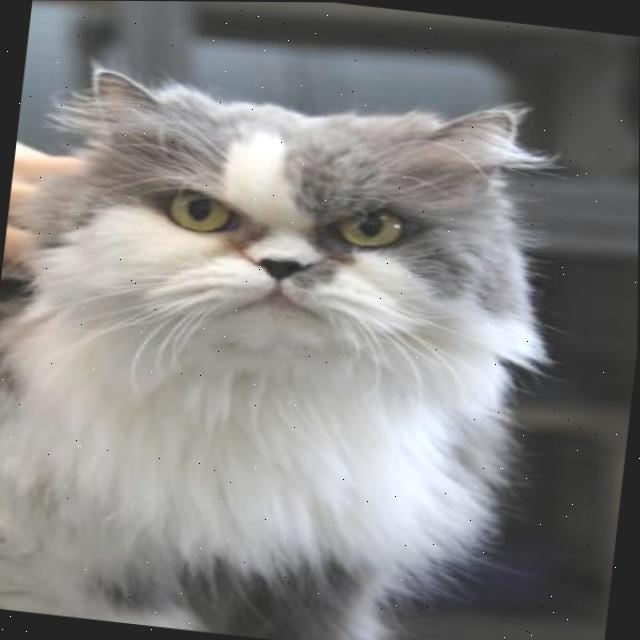Persian: (0, 50, 587, 640)
